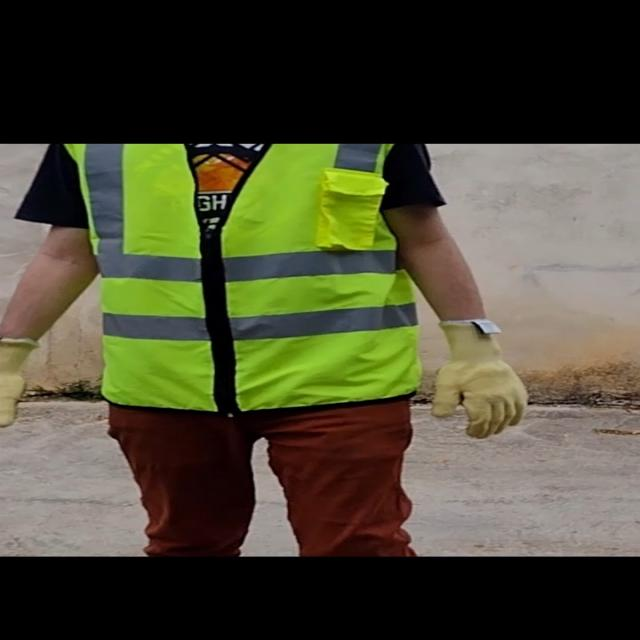glove: (415, 319, 535, 436)
pants: (111, 398, 428, 554)
vest: (92, 139, 422, 412)
